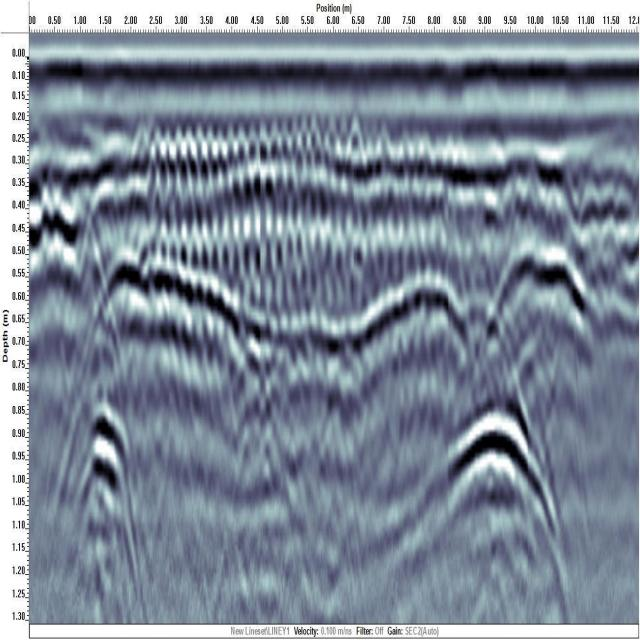hyperbola: (440, 394, 560, 538)
